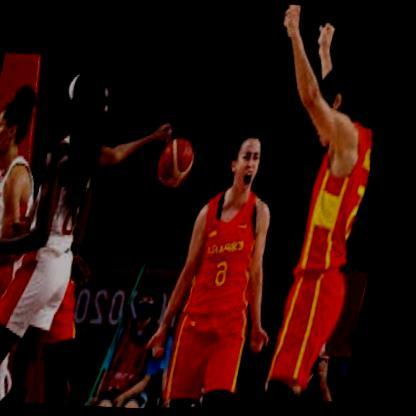basketball: (159, 139, 203, 193)
